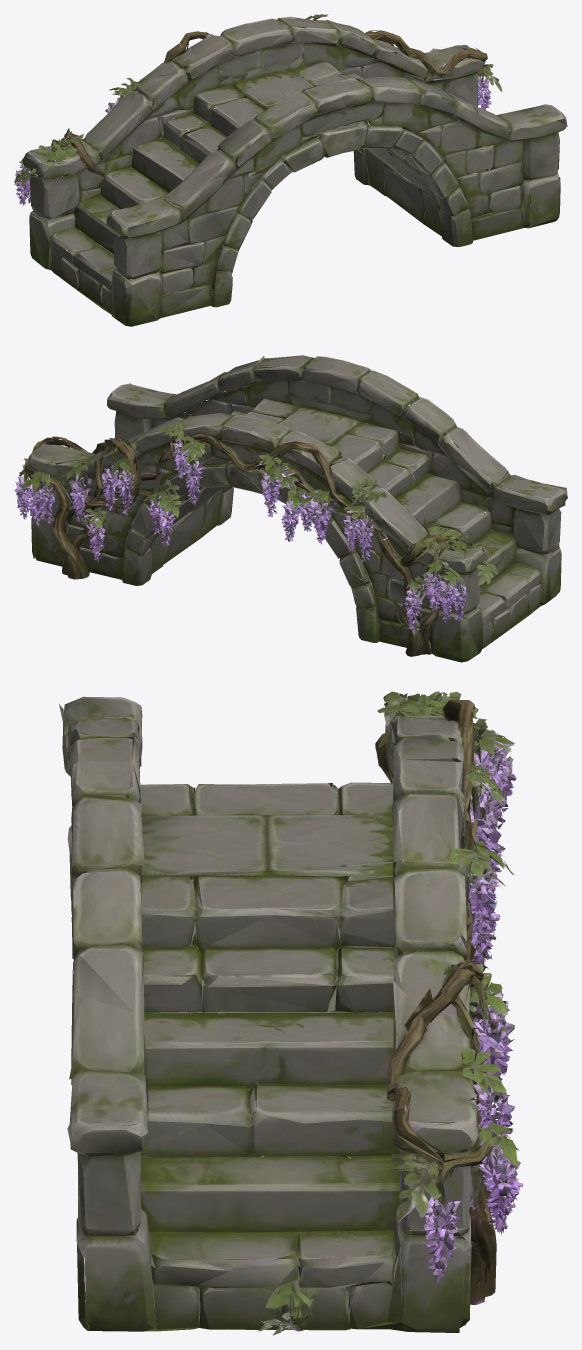
Rendered from wisteria_bridge.glb.
The picture shows the model from 3 angles, top to bottom: view 1: azimuth 30°, elevation 25°; view 2: azimuth 150°, elevation 25°; view 3: azimuth 270°, elevation 25°; orthographic projection. The views are drawn at different scales.
Visible parts, largest first — view 1: Mesh_0; view 2: Mesh_0; view 3: Mesh_0.
Boxes of the visible parts, x1,y1,x2,y2 form: Mesh_0: (14, 14, 567, 326); Mesh_0: (14, 355, 567, 662); Mesh_0: (59, 691, 523, 1335).
Bounding box in the file's own units: 13.5 × 5.01 × 5.69.
Materials: 1 (1 with a texture image).
